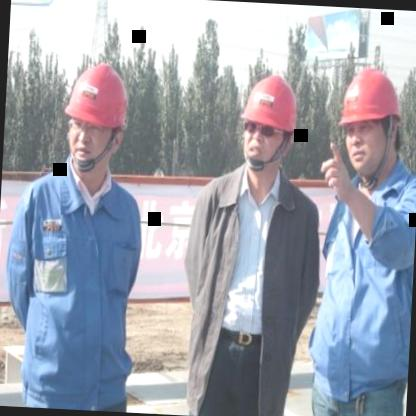helmet: (56, 46, 138, 182), (329, 52, 409, 190), (230, 63, 304, 182)
